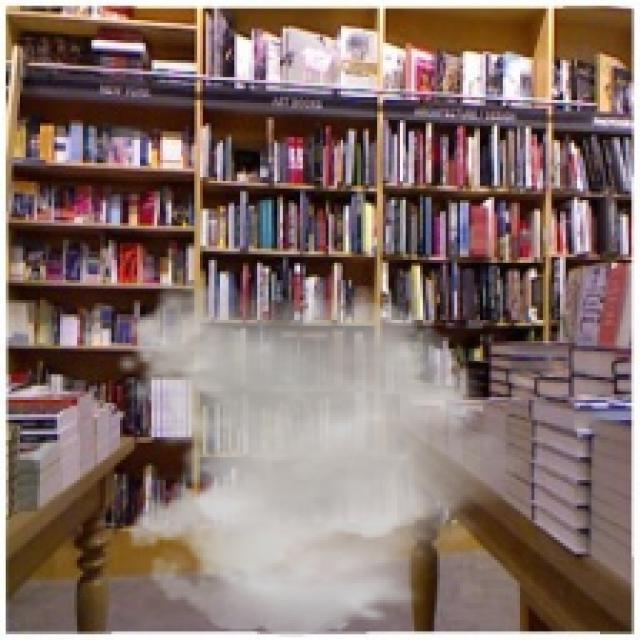Smoke: (111, 282, 534, 638)
